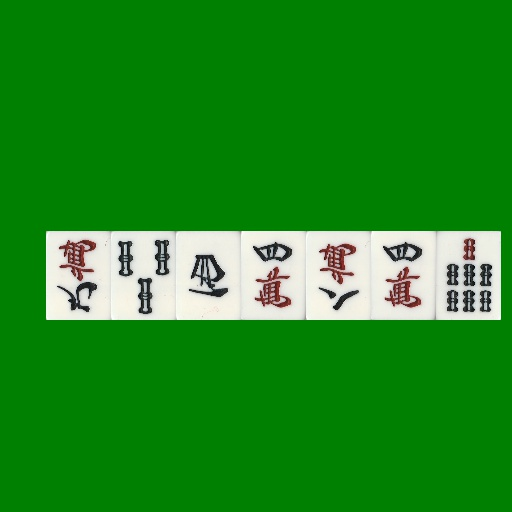3s: (111, 231, 176, 320)
4m: (241, 231, 306, 320), (371, 231, 436, 320)
7s: (436, 231, 501, 320)
8m: (306, 231, 371, 320)
9m: (46, 231, 111, 320)
west: (176, 231, 241, 320)
